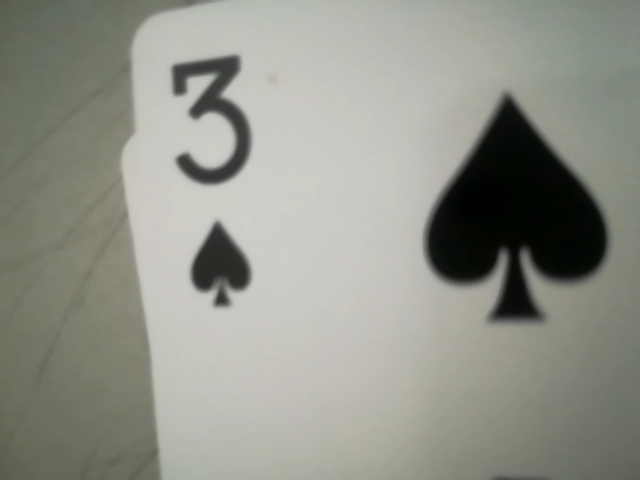ht 3: (146, 46, 260, 317)
